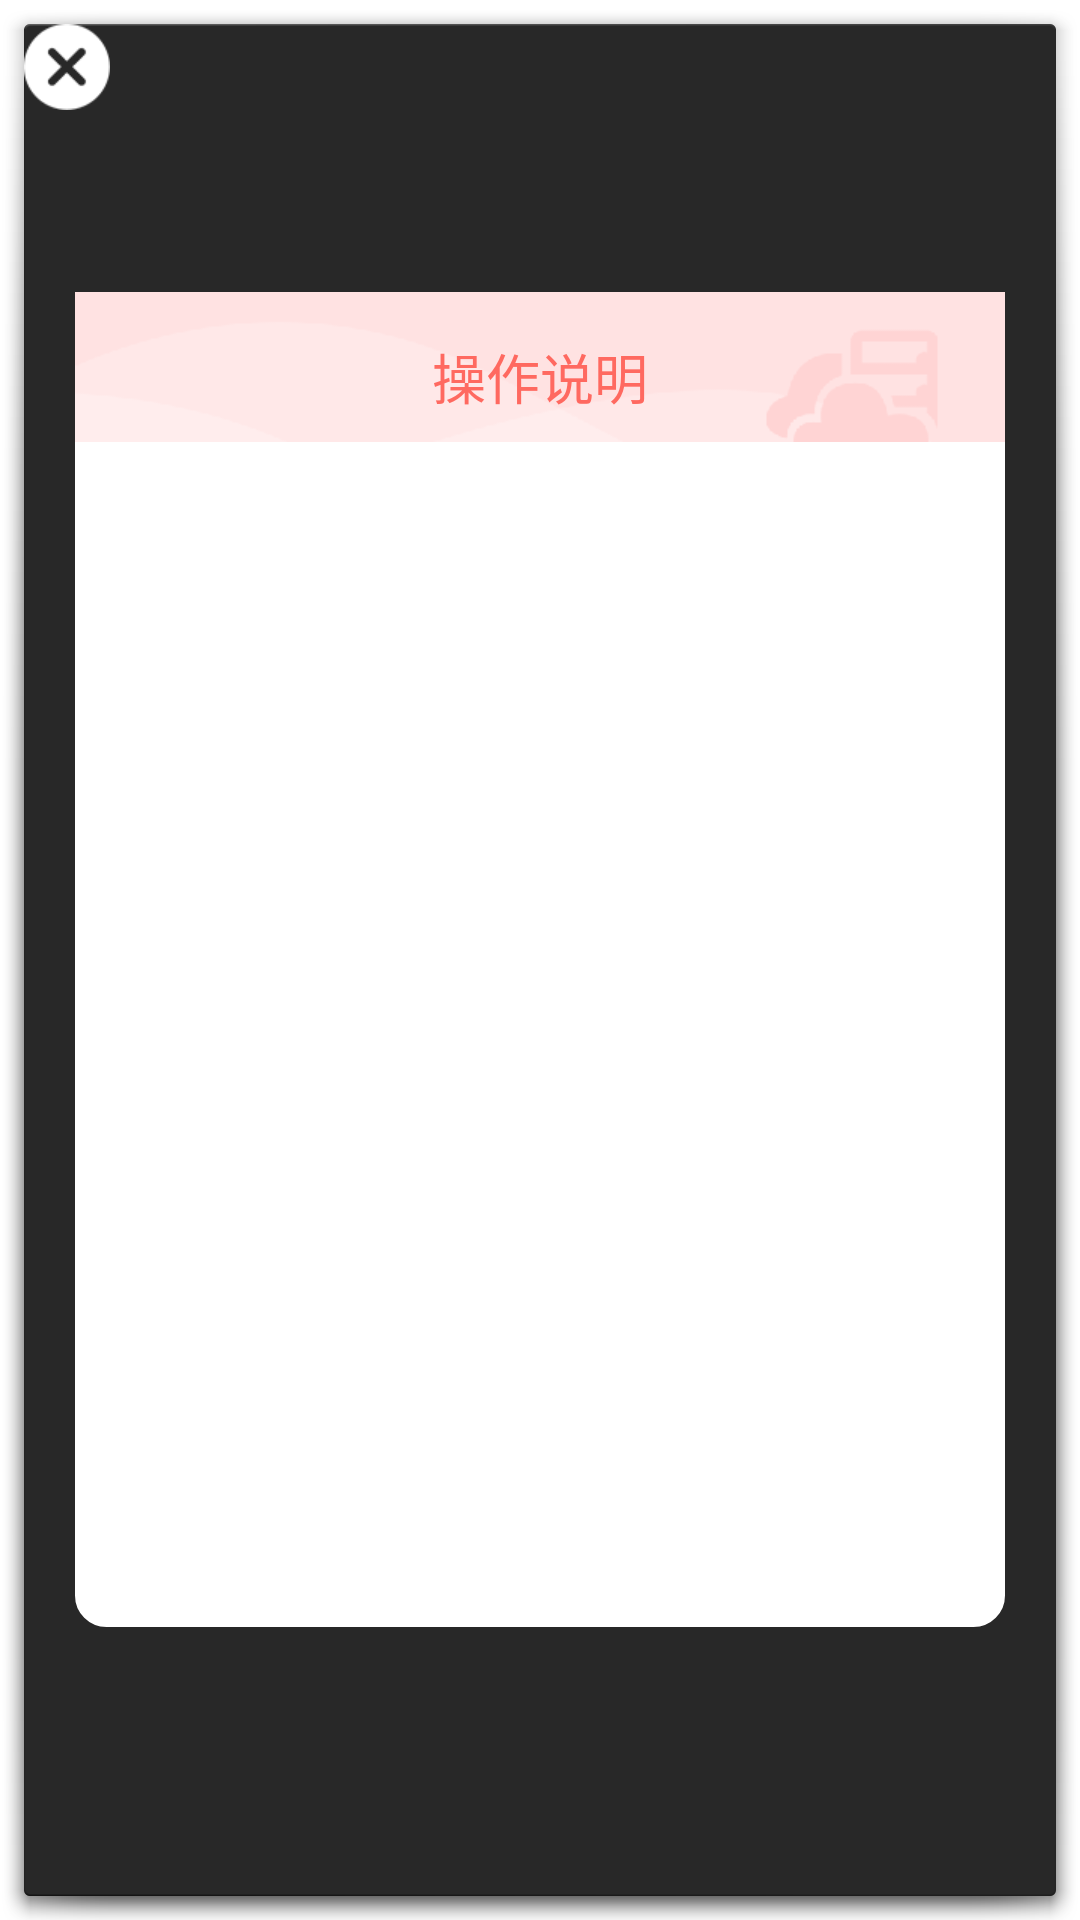

Screen size 1080w x 1920h. Icon name, then its box in pixels as box=[x1, y1, x2, y2]:
weiguilei close: box=[18, 20, 86, 86]
